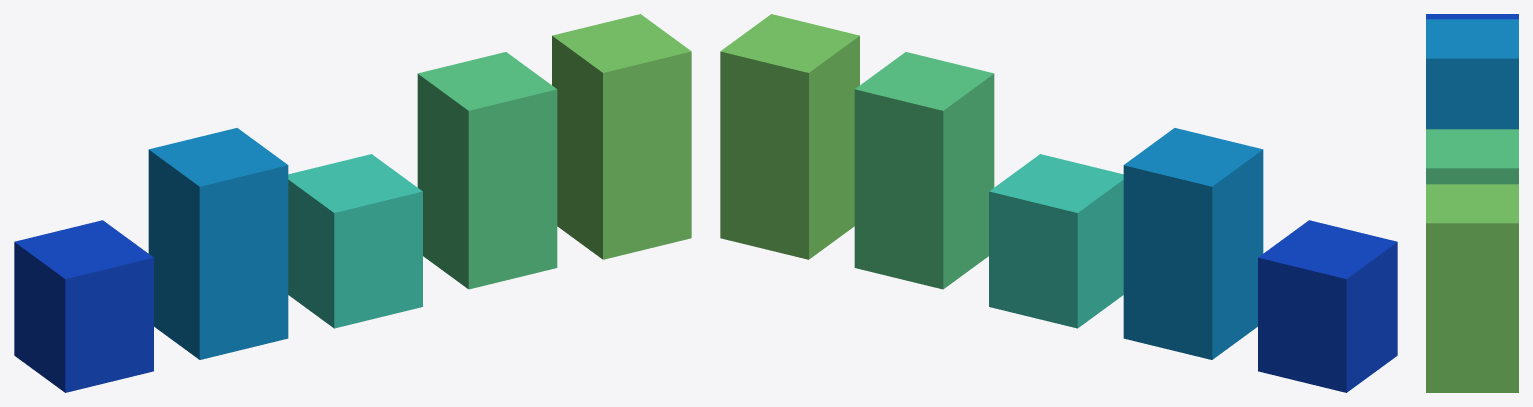
File: visualize2.gltf
The picture shows the model from 3 angles, left to right: view 1: azimuth 30°, elevation 25°; view 2: azimuth 150°, elevation 25°; view 3: azimuth 270°, elevation 25°; orthographic projection. The views are drawn at different scales.
Parts seen in each view (by area): view 1: Visualize; view 2: Visualize; view 3: Visualize.
Boxes of the visible parts, left/top/right/bottom form: Visualize: left=14, top=14, right=691, bottom=392; Visualize: left=720, top=14, right=1397, bottom=392; Visualize: left=1426, top=14, right=1518, bottom=392.
Bounding box in the file's own units: 14.14 × 4.1 × 2.
